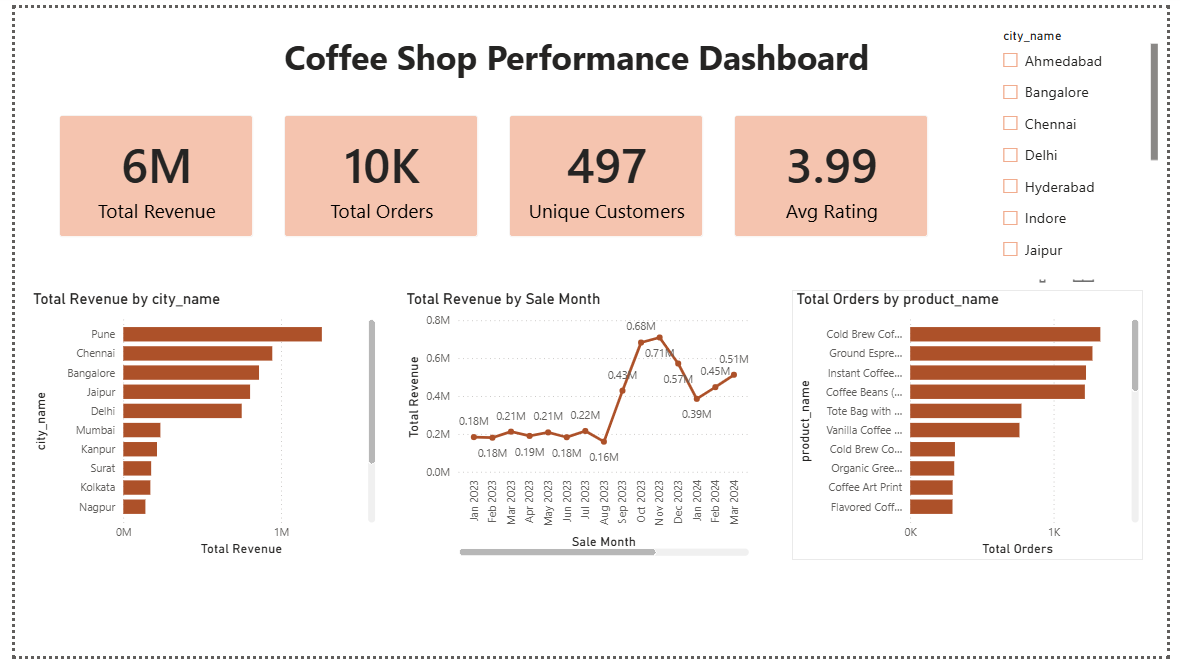

The page's visual inventory and layout, read from the dashboard file:
{"tool":"powerbi","page":{"name":"Overview","canvas":[1280,720],"ordinal":0},"visuals":[{"type":"cardVisual","fields":{"Data":["coffeeshopdb sales.Total Revenue"]},"box":[31.7,101.7,250,170],"z":0},{"type":"cardVisual","fields":{"Data":["coffeeshopdb sales.Total Orders"]},"box":[281.7,101.7,250,170],"z":1000},{"type":"cardVisual","fields":{"Data":["coffeeshopdb sales.Unique Customers"]},"box":[531.7,101.7,250,170],"z":2000},{"type":"cardVisual","fields":{"Data":["coffeeshopdb sales.Avg Rating"]},"box":[781.7,101.7,250,170],"z":3000},{"type":"clusteredBarChart","fields":{"Category":["coffeeshopdb city.city_name"],"Y":["coffeeshopdb sales.Total Revenue"]},"box":[15,313.3,390,300],"z":4000},{"type":"clusteredBarChart","fields":{"Category":["coffeeshopdb products.product_name"],"Y":["coffeeshopdb sales.Total Orders"]},"box":[863.3,313.3,390,300],"z":5000},{"type":"textbox","box":[281.7,23.3,685,78.3],"z":6000},{"type":"slicer","fields":{"Values":["coffeeshopdb city.city_name"]},"box":[1080,11.7,200,290],"z":7000},{"type":"lineChart","fields":{"Y":["coffeeshopdb sales.Total Revenue"],"Category":["coffeeshopdb sales.Sale Month"]},"box":[430,313.3,390,300],"z":8000}]}

Visuals, with their boxes in screenshot pixels (x1, y1, x2, y2), scaled from the page's 1280x720 canvas onto the 1180x663 screenshot:
cardVisual - coffeeshopdb sales.Total Revenue: {"left": 29, "top": 94, "right": 260, "bottom": 250}
cardVisual - coffeeshopdb sales.Total Orders: {"left": 260, "top": 94, "right": 490, "bottom": 250}
cardVisual - coffeeshopdb sales.Unique Customers: {"left": 490, "top": 94, "right": 721, "bottom": 250}
cardVisual - coffeeshopdb sales.Avg Rating: {"left": 721, "top": 94, "right": 951, "bottom": 250}
clusteredBarChart - coffeeshopdb city.city_name x coffeeshopdb sales.Total Revenue: {"left": 14, "top": 288, "right": 373, "bottom": 565}
clusteredBarChart - coffeeshopdb products.product_name x coffeeshopdb sales.Total Orders: {"left": 796, "top": 288, "right": 1155, "bottom": 565}
textbox: {"left": 260, "top": 21, "right": 891, "bottom": 94}
slicer - coffeeshopdb city.city_name: {"left": 996, "top": 11, "right": 1179, "bottom": 278}
lineChart - coffeeshopdb sales.Total Revenue x coffeeshopdb sales.Sale Month: {"left": 396, "top": 288, "right": 756, "bottom": 565}
